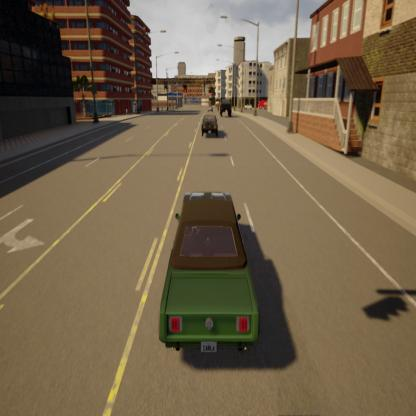Cars: (144, 179, 270, 367), (198, 107, 220, 138), (216, 96, 234, 121)
